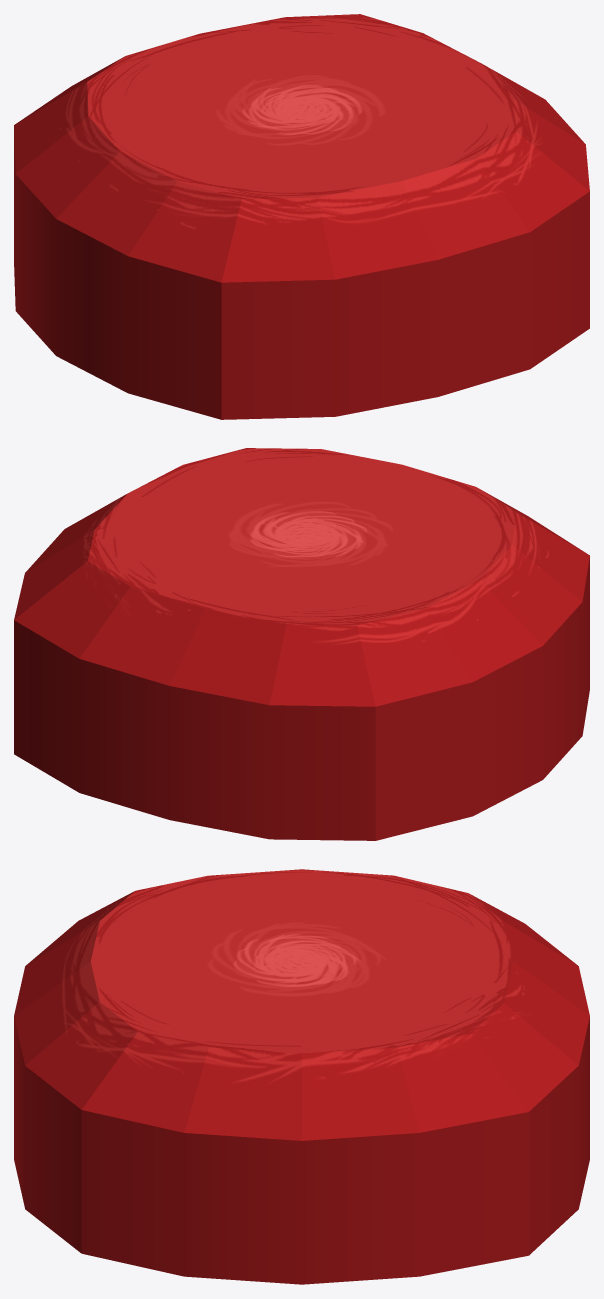
File: ButtonRed.fbx
3 renders of one model, top to bottom at view 1: azimuth 30°, elevation 25°; view 2: azimuth 150°, elevation 25°; view 3: azimuth 270°, elevation 25°, orthographic. The views are drawn at different scales.
Visible parts, largest first — view 1: ButtonRed; view 2: ButtonRed; view 3: ButtonRed.
Part boxes in pixels (<box>): ButtonRed: <box>14,14,589,419</box>; ButtonRed: <box>14,448,589,840</box>; ButtonRed: <box>14,869,589,1284</box>.
Bounding box in the file's own units: 126 × 122 × 46.41.
